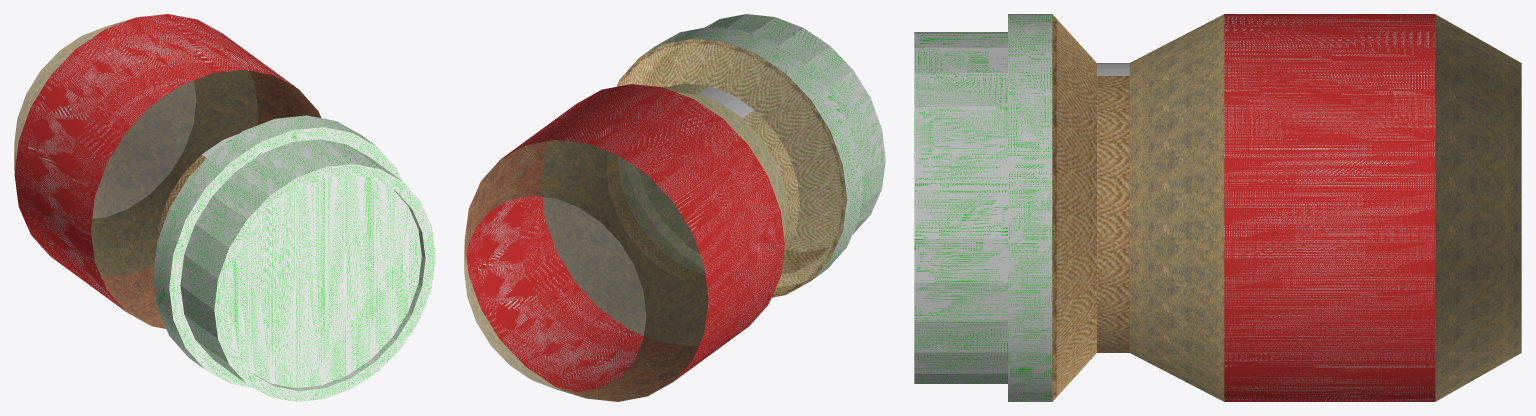
Rendered from model_scale.obj.
3 renders of one model, left to right at view 1: azimuth 30°, elevation 25°; view 2: azimuth 150°, elevation 25°; view 3: azimuth 270°, elevation 25°, orthographic. The views are drawn at different scales.
Visible parts, largest first — view 1: mesh1_mesh1-geometry; view 2: mesh1_mesh1-geometry; view 3: mesh1_mesh1-geometry.
Boxes of the visible parts, box(x1,y1,x2,y2) form: mesh1_mesh1-geometry: box(14, 14, 435, 401); mesh1_mesh1-geometry: box(464, 14, 885, 401); mesh1_mesh1-geometry: box(914, 14, 1521, 401).
Bounding box in the file's own units: 0.0986 × 0.0986 × 0.1537.
